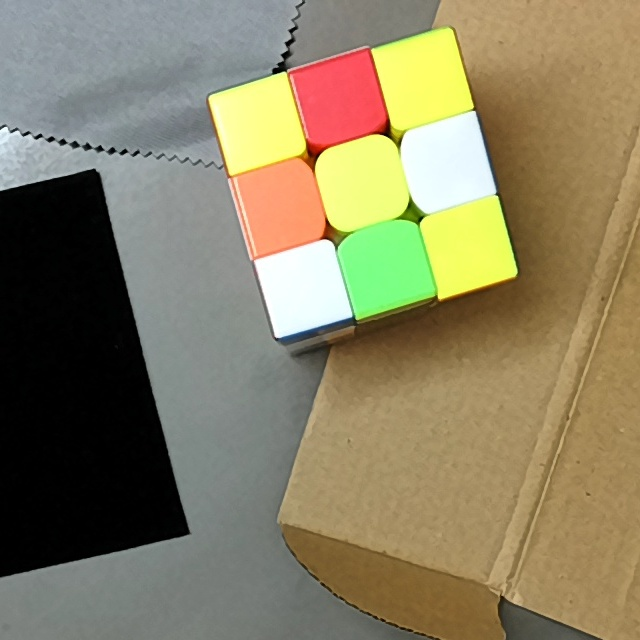tile: (305, 69, 374, 133), (328, 154, 398, 215), (416, 129, 479, 196), (228, 92, 290, 157), (252, 172, 311, 240), (393, 51, 457, 112), (436, 214, 499, 275), (359, 238, 420, 300), (275, 257, 333, 316)
